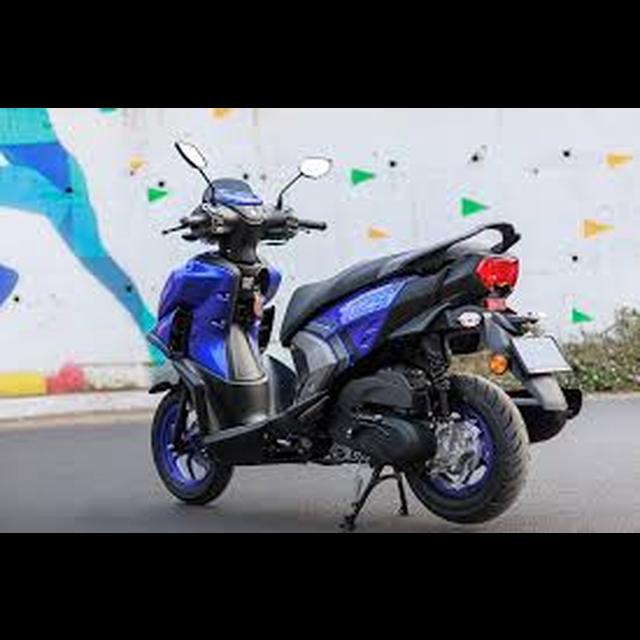motorcycle: (141, 137, 590, 524)
